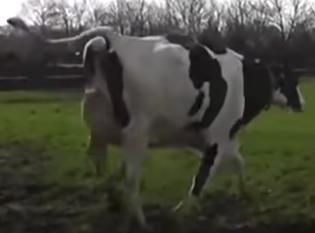cow: (8, 17, 306, 228)
